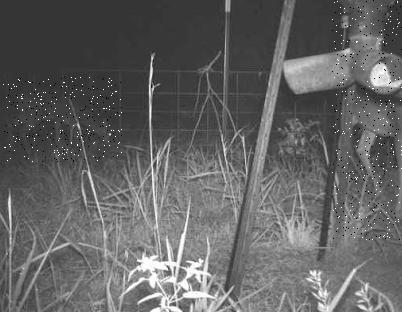Deer: (332, 0, 402, 240), (3, 77, 122, 162)
